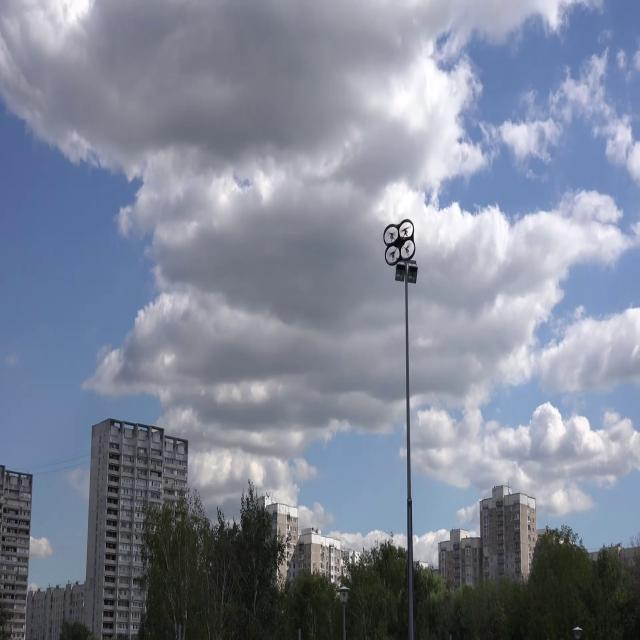Drons: (380, 218, 418, 267)
